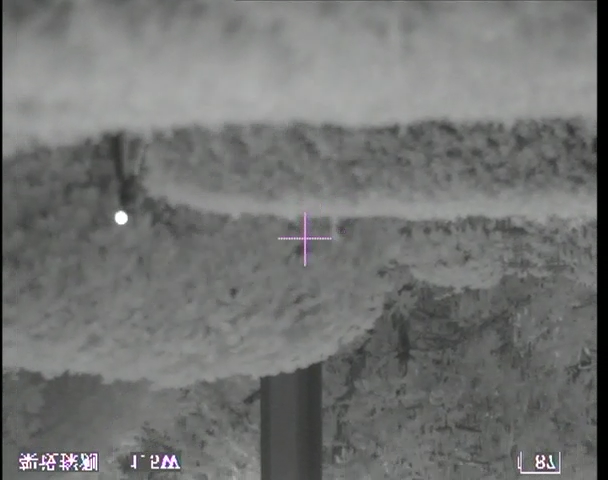my: (113, 210, 129, 227)
